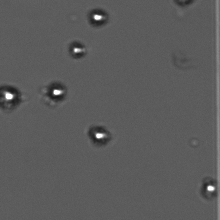Living Cell: (1, 84, 21, 107), (87, 125, 111, 144), (44, 82, 67, 101), (201, 177, 218, 198), (68, 40, 87, 58), (89, 8, 108, 26)
